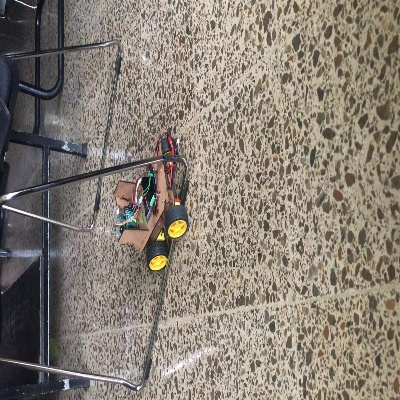Robot: (111, 137, 188, 271)
